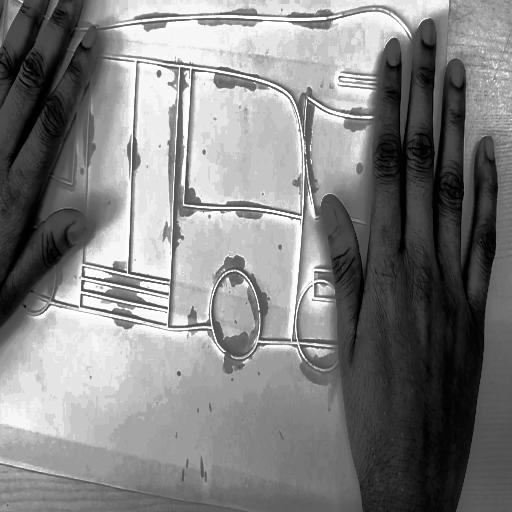bus: (3, 0, 423, 394)
